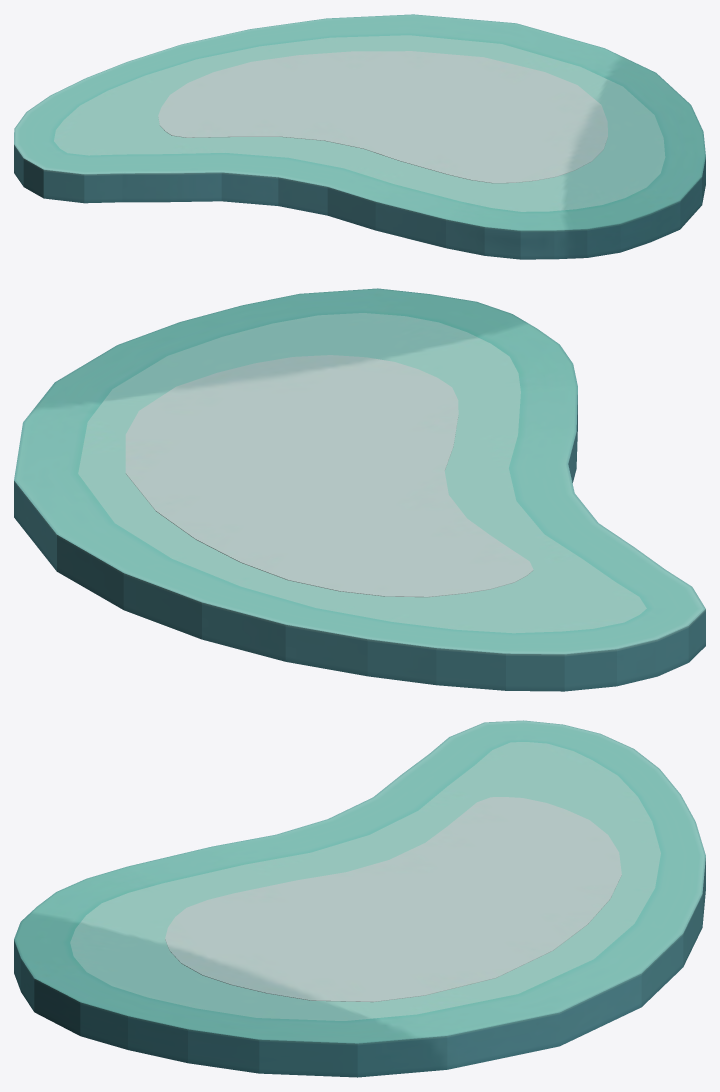
Rendered from 宝宝巴士-主框架-推送地图-过家家-鱼塘.FBX.
The picture shows the model from 3 angles, top to bottom: view 1: azimuth 30°, elevation 25°; view 2: azimuth 150°, elevation 25°; view 3: azimuth 270°, elevation 25°; orthographic projection. The views are drawn at different scales.
Parts seen in each view (by area): view 1: 宝宝巴士-主框架-推送地图-过家家-鱼塘; view 2: 宝宝巴士-主框架-推送地图-过家家-鱼塘; view 3: 宝宝巴士-主框架-推送地图-过家家-鱼塘.
Boxes of the visible parts, box(x1,y1,x2,y2) form: 宝宝巴士-主框架-推送地图-过家家-鱼塘: box(14, 14, 705, 259); 宝宝巴士-主框架-推送地图-过家家-鱼塘: box(14, 288, 705, 691); 宝宝巴士-主框架-推送地图-过家家-鱼塘: box(14, 720, 705, 1077).
Bounding box in the file's own units: 159 × 7.89 × 144.
